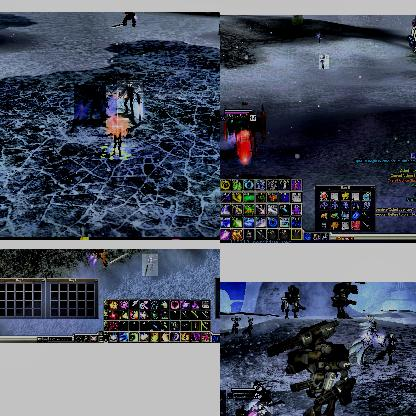caliana: (74, 85, 106, 127), (117, 80, 143, 120), (249, 401, 273, 416), (142, 254, 158, 276), (242, 316, 254, 336), (231, 315, 241, 333), (319, 55, 329, 69), (315, 32, 325, 42)
